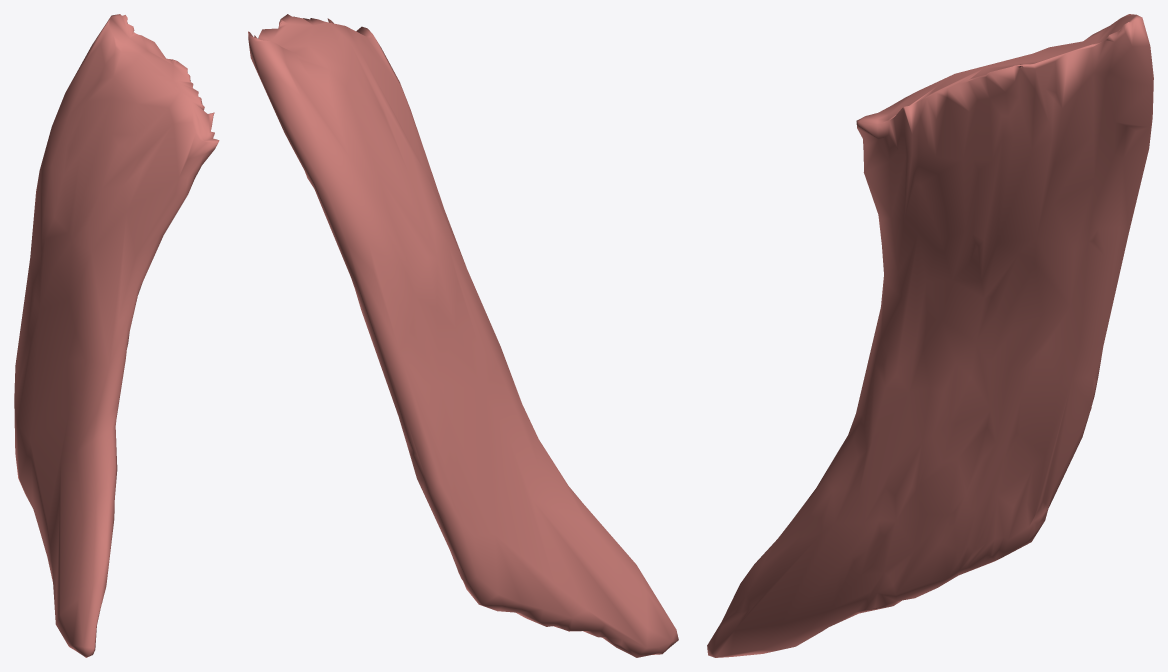
3 renders of one model, left to right at view 1: azimuth 30°, elevation 25°; view 2: azimuth 150°, elevation 25°; view 3: azimuth 270°, elevation 25°, orthographic. The views are drawn at different scales.
Parts seen in each view (by area): view 1: ZA_d8408d0c6e4008d7; view 2: ZA_d8408d0c6e4008d7; view 3: ZA_d8408d0c6e4008d7.
Part boxes in pixels (left/top/right/bottom): ZA_d8408d0c6e4008d7: left=14, top=14, right=219, bottom=657; ZA_d8408d0c6e4008d7: left=248, top=14, right=678, bottom=657; ZA_d8408d0c6e4008d7: left=707, top=14, right=1153, bottom=657.
Size of the model in its own units: 0.027 by 0.0655 by 0.0346.
